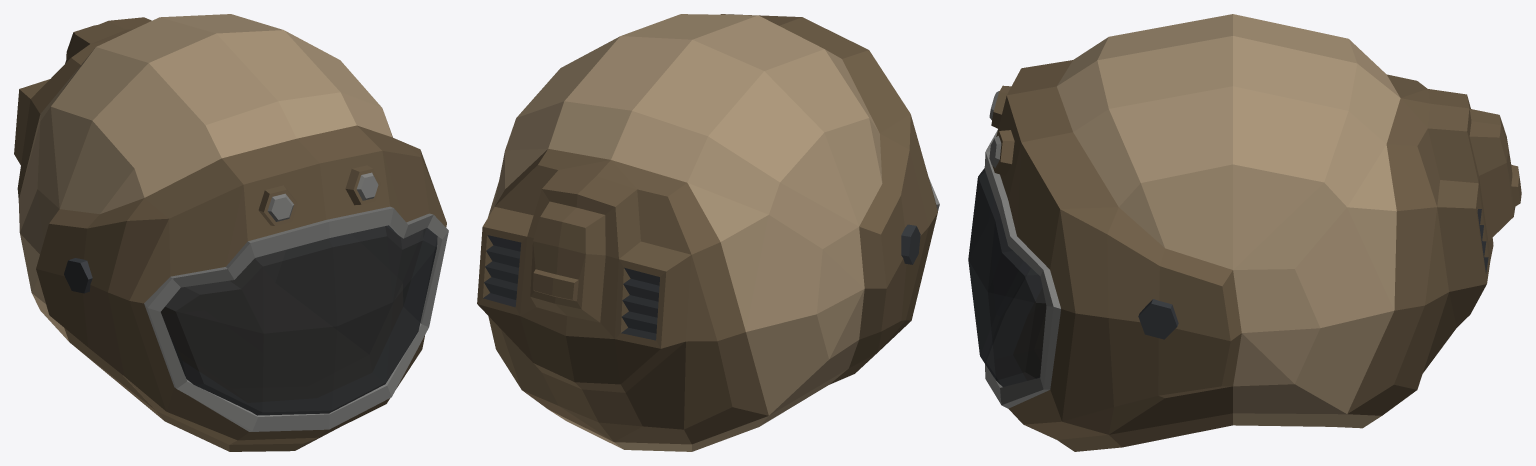
Rendered from SM_Chr_Attach_Bombsuit_Helmet_01.fbx.
3 renders of one model, left to right at view 1: azimuth 30°, elevation 25°; view 2: azimuth 150°, elevation 25°; view 3: azimuth 270°, elevation 25°, orthographic. The views are drawn at different scales.
Parts seen in each view (by area): view 1: SM_Chr_Attach_Bombsuit_Helmet_01, SM_Chr_Attach_Bombsuit_Helmet_01_Visor; view 2: SM_Chr_Attach_Bombsuit_Helmet_01; view 3: SM_Chr_Attach_Bombsuit_Helmet_01, SM_Chr_Attach_Bombsuit_Helmet_01_Visor.
Boxes of the visible parts, left/top/right/bottom form: SM_Chr_Attach_Bombsuit_Helmet_01: left=14, top=14, right=448, bottom=451; SM_Chr_Attach_Bombsuit_Helmet_01_Visor: left=161, top=225, right=437, bottom=415; SM_Chr_Attach_Bombsuit_Helmet_01: left=477, top=14, right=939, bottom=451; SM_Chr_Attach_Bombsuit_Helmet_01: left=984, top=14, right=1521, bottom=451; SM_Chr_Attach_Bombsuit_Helmet_01_Visor: left=968, top=168, right=1046, bottom=386.
Size of the model in its own units: 38.14 by 36.16 by 45.99.
